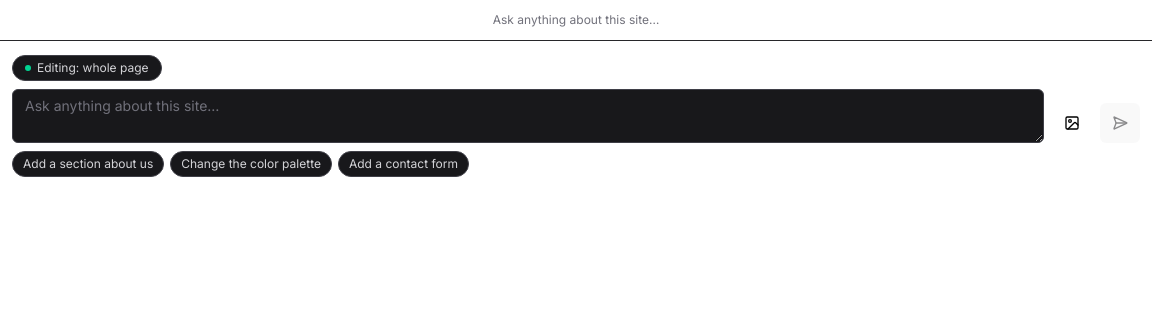
Test: RightSidebarAiChat › network_error renders the §9.6 copy + Retry button
Type "anything" into the text box with test id "composer-textarea".
click(528, 116); type("anything")  # box x1=12 y1=89 x2=1044 y2=143
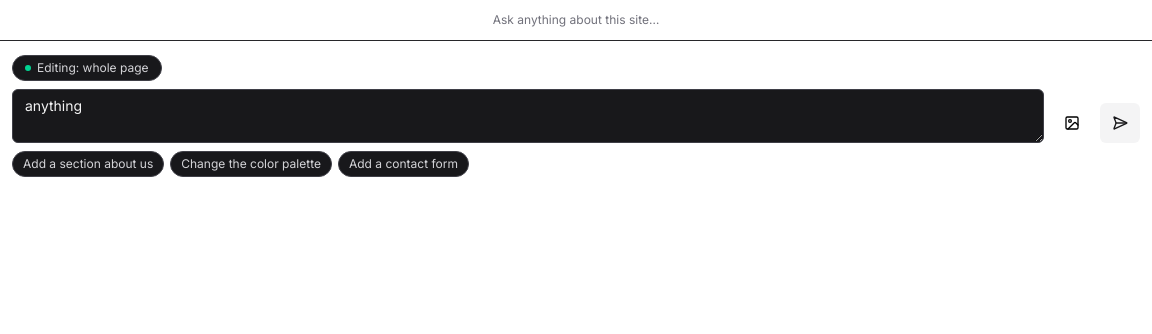
Click the button named "Send".
click(1120, 123)  # box x1=1100 y1=103 x2=1140 y2=143
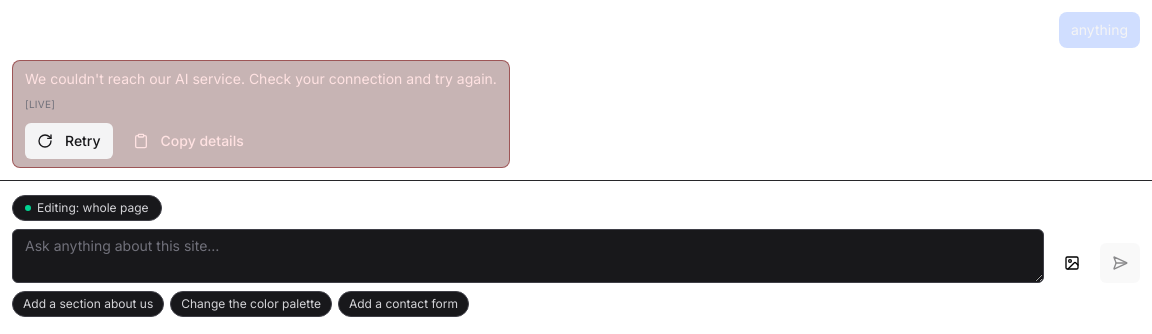
Expected: the element with test id "assistant-error" is shown, x1=12 y1=60 x2=510 y2=168
Expected: the element with test id "assistant-error" shows "We couldn't reach our AI service", x1=25 y1=70 x2=497 y2=87
Expected: the button with test id "retry-button" is shown, x1=25 y1=123 x2=113 y2=159
